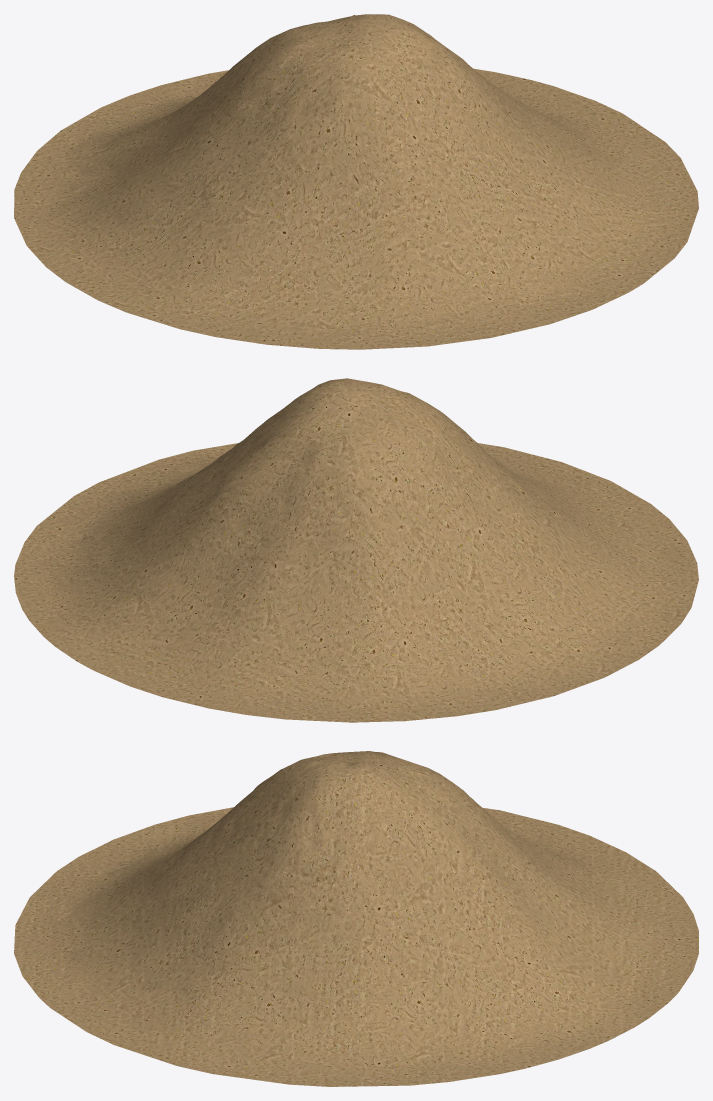
The model's file is ALV-AGR-002_lod1.glb.
3 views of the same model, one above another, from view 1: azimuth 30°, elevation 25°; view 2: azimuth 150°, elevation 25°; view 3: azimuth 270°, elevation 25° (orthographic).
Parts seen in each view (by area): view 1: Monte de areia (0,1 m³); view 2: Monte de areia (0,1 m³); view 3: Monte de areia (0,1 m³).
Part boxes in pixels (box(x1,y1,x2,y2)): Monte de areia (0,1 m³): box(14, 14, 698, 349); Monte de areia (0,1 m³): box(14, 378, 698, 722); Monte de areia (0,1 m³): box(14, 751, 698, 1086).
Size of the model in its own units: 1.14 by 0.3373 by 1.14.
1 material, 1 textured.
